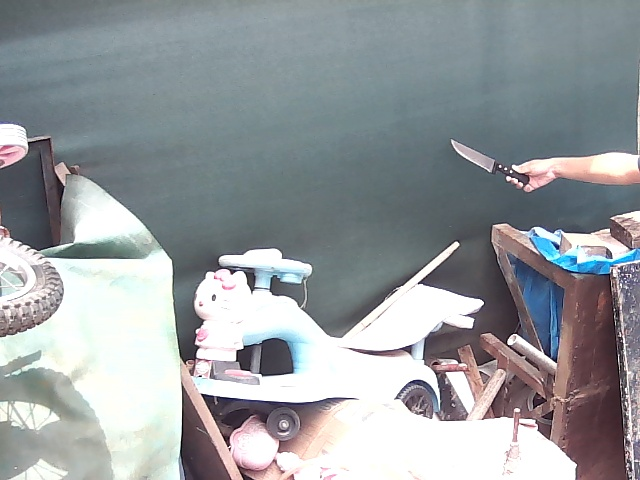cuchillo: (449, 135, 536, 191)
